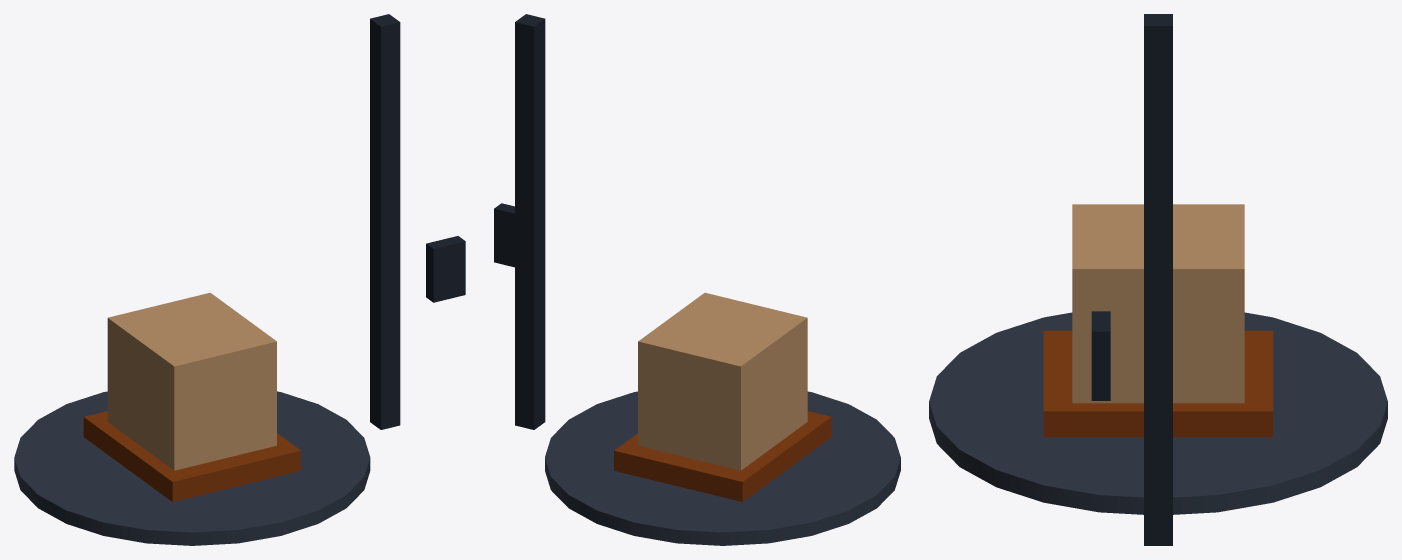
The model's file is yard-stretch-wrap-body-authored-vertex-colour-tripo-finish.glb.
3 renders of one model, left to right at view 1: azimuth 30°, elevation 25°; view 2: azimuth 150°, elevation 25°; view 3: azimuth 270°, elevation 25°, orthographic. The views are drawn at different scales.
Visible parts, largest first — view 1: Authored shadows false:false; view 2: Authored shadows false:false; view 3: Authored shadows false:false.
Boxes of the visible parts, x1,y1,x2,y2 form: Authored shadows false:false: [14, 14, 465, 545]; Authored shadows false:false: [494, 14, 900, 545]; Authored shadows false:false: [929, 14, 1387, 545].
Size of the model in its own units: 1 by 0.96 by 0.768.
